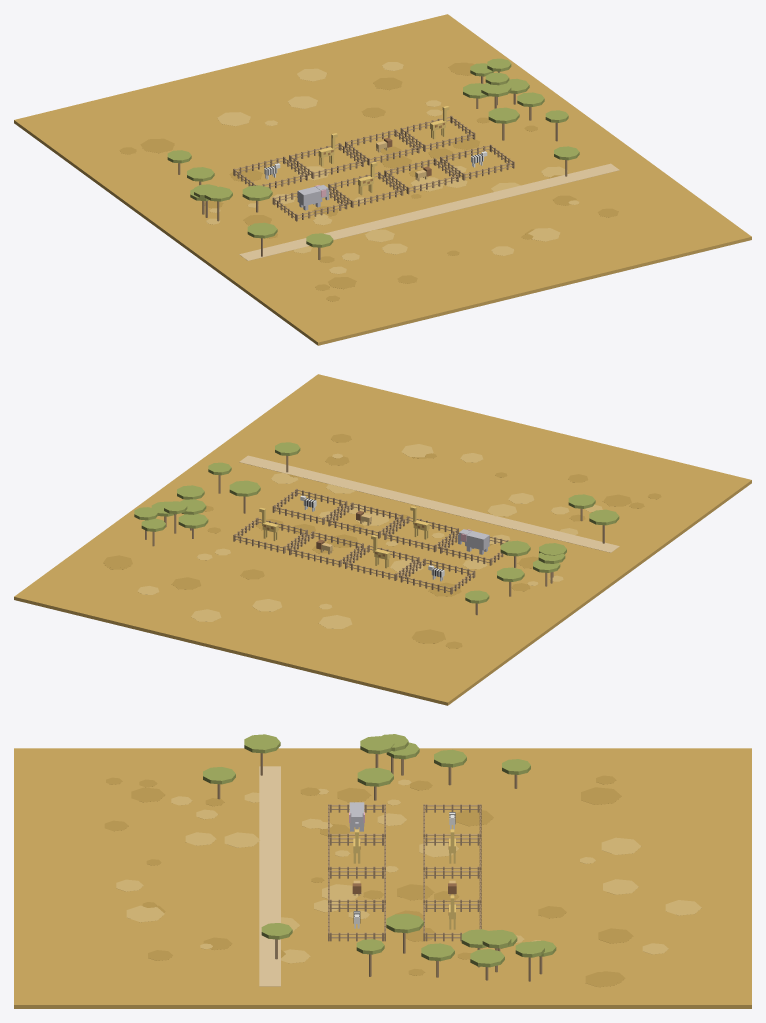
Rendered from zoo.glb.
The picture shows the model from 3 angles, top to bottom: view 1: azimuth 30°, elevation 25°; view 2: azimuth 150°, elevation 25°; view 3: azimuth 270°, elevation 25°; orthographic projection. The views are drawn at different scales.
Parts seen in each view (by area): view 1: land, path; view 2: land, path; view 3: land, path, Cylinder.091, Cylinder.073, Cylinder.069, Cylinder.047, Cylinder.032, Cylinder.067, Cylinder.065, Cylinder.075, Cylinder.005, Cylinder.093 (+4 smaller).
Boxes of the visible parts, box(x1,y1,x2,y2) form: land: box(14, 14, 751, 345); path: box(239, 163, 619, 260); land: box(14, 374, 751, 705); path: box(239, 455, 619, 552); land: box(14, 748, 751, 1008); path: box(259, 766, 280, 986); Cylinder.091: box(386, 913, 423, 933); Cylinder.073: box(244, 734, 280, 753); Cylinder.069: box(357, 767, 393, 786); Cylinder.047: box(581, 787, 621, 804); Cylinder.032: box(601, 837, 641, 854); Cylinder.067: box(470, 949, 504, 967); Cylinder.065: box(360, 736, 394, 754); Cylinder.075: box(421, 943, 454, 961); Cylinder.005: box(455, 810, 493, 826); Cylinder.093: box(434, 749, 466, 767).
Size of the model in its own units: 140 by 9.71 by 170.
